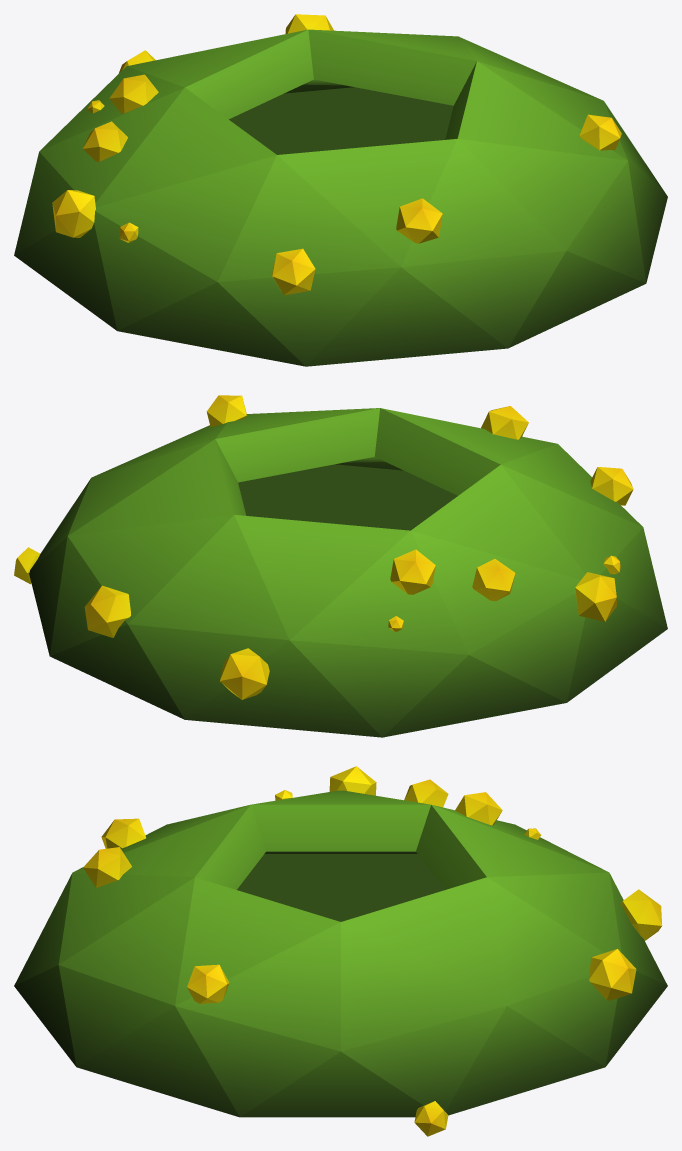
The model's file is TreeBase_Bush_YellowFlower.fbx.
The picture shows the model from 3 angles, top to bottom: view 1: azimuth 30°, elevation 25°; view 2: azimuth 150°, elevation 25°; view 3: azimuth 270°, elevation 25°; orthographic projection. The views are drawn at different scales.
Parts seen in each view (by area): view 1: TreeBase_Bush_YellowFlower; view 2: TreeBase_Bush_YellowFlower; view 3: TreeBase_Bush_YellowFlower.
Boxes of the visible parts, left/top/right/bottom form: TreeBase_Bush_YellowFlower: left=14, top=14, right=667, bottom=366; TreeBase_Bush_YellowFlower: left=14, top=395, right=667, bottom=737; TreeBase_Bush_YellowFlower: left=14, top=766, right=667, bottom=1136.
Bounding box in the file's own units: 276 × 67.21 × 279.
